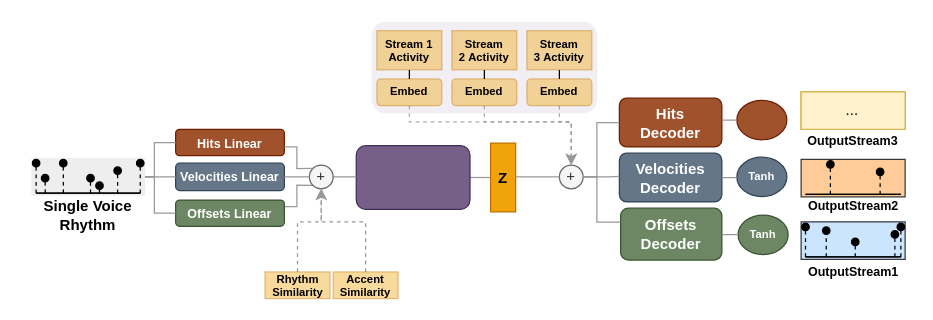
Image size: 933x320. Some labels were removed from this diagram. Here are the shapes that lost their labels. From the top down, the centre of each, then its label:
the point at 761,119: Sigmoid
the point at 412,176: Variational Encoder
